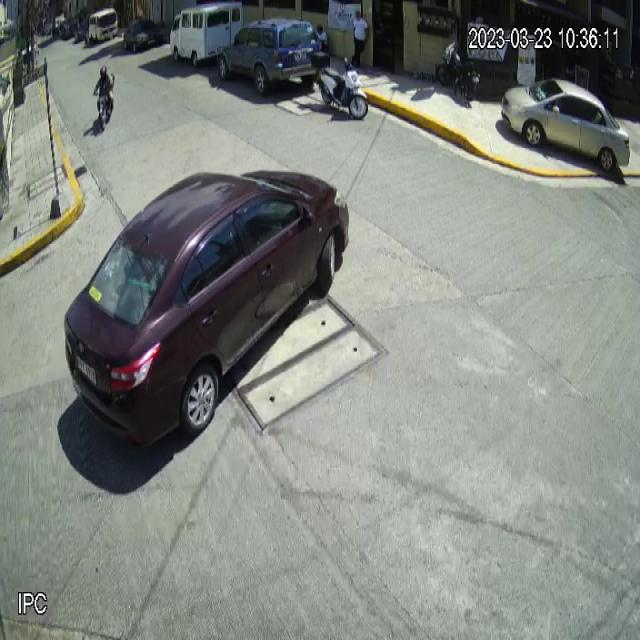Car: (64, 169, 350, 453), (501, 78, 632, 173), (217, 17, 323, 89)
Motorcycle: (310, 48, 368, 122)
Van: (170, 1, 242, 67)
